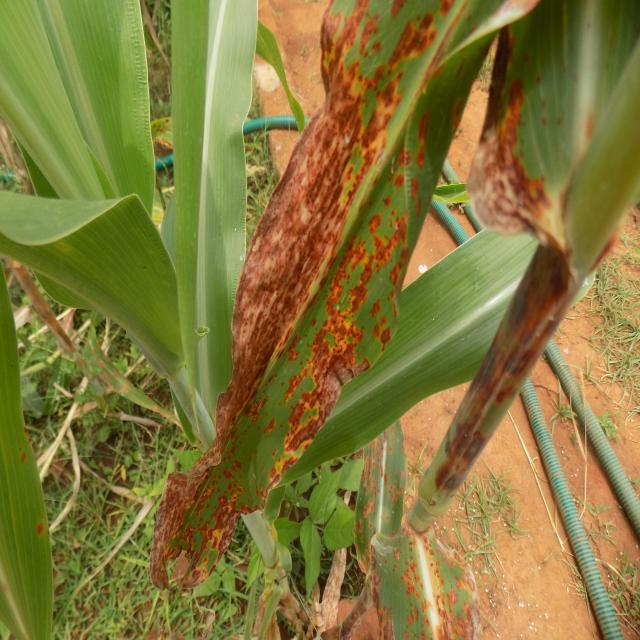millet_healthy: (265, 206, 531, 479), (4, 181, 198, 400), (0, 0, 169, 241), (170, 0, 254, 417)
millet_rust: (154, 0, 508, 601), (236, 1, 401, 546), (0, 293, 61, 640)
